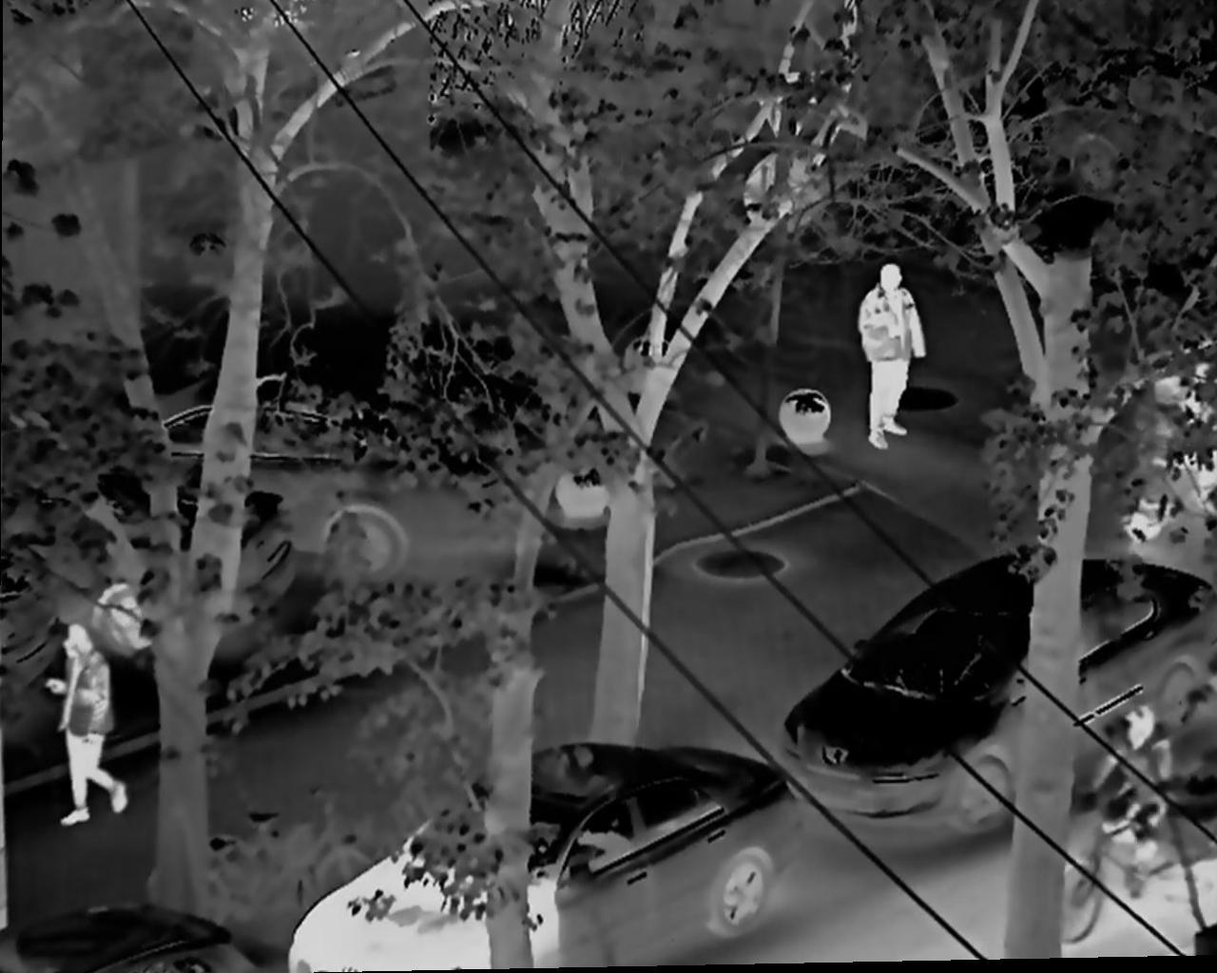person: (43, 621, 130, 829), (858, 262, 927, 451), (1099, 708, 1168, 861)
